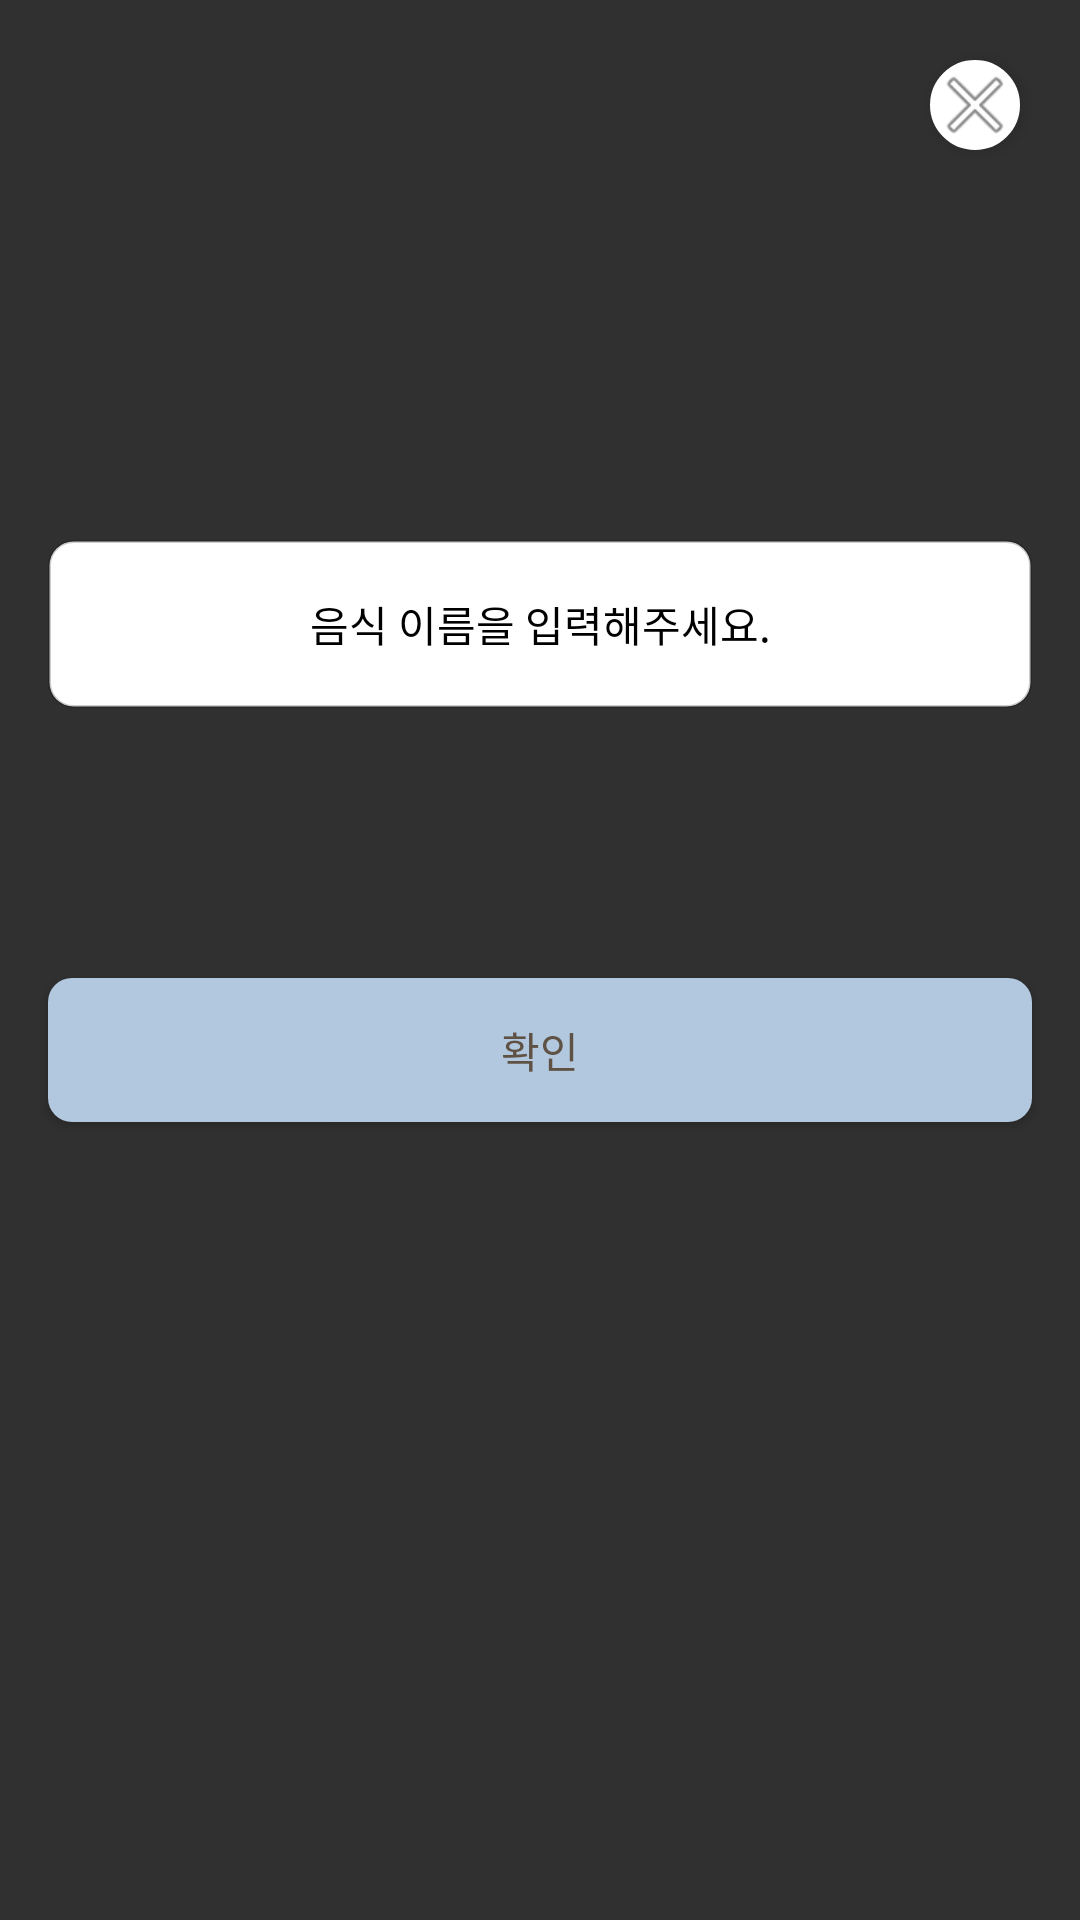

Point at icon controls on the screen. Image size 1080x1920, points as point (x, y).
close clear cancel: point (975, 105)
